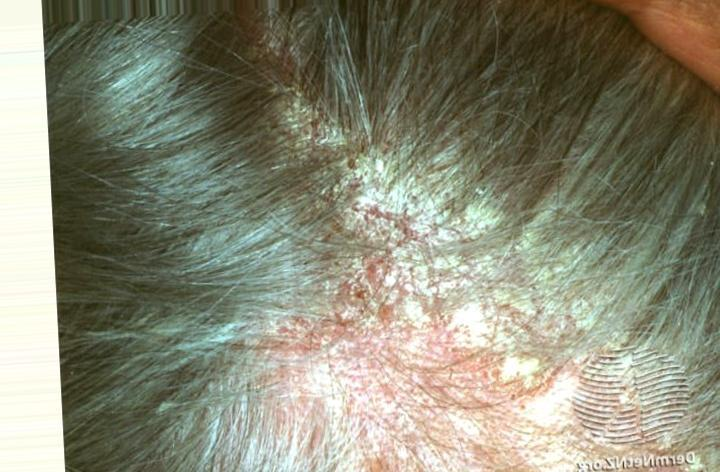Contact Dermatitis: (194, 188, 604, 459)
